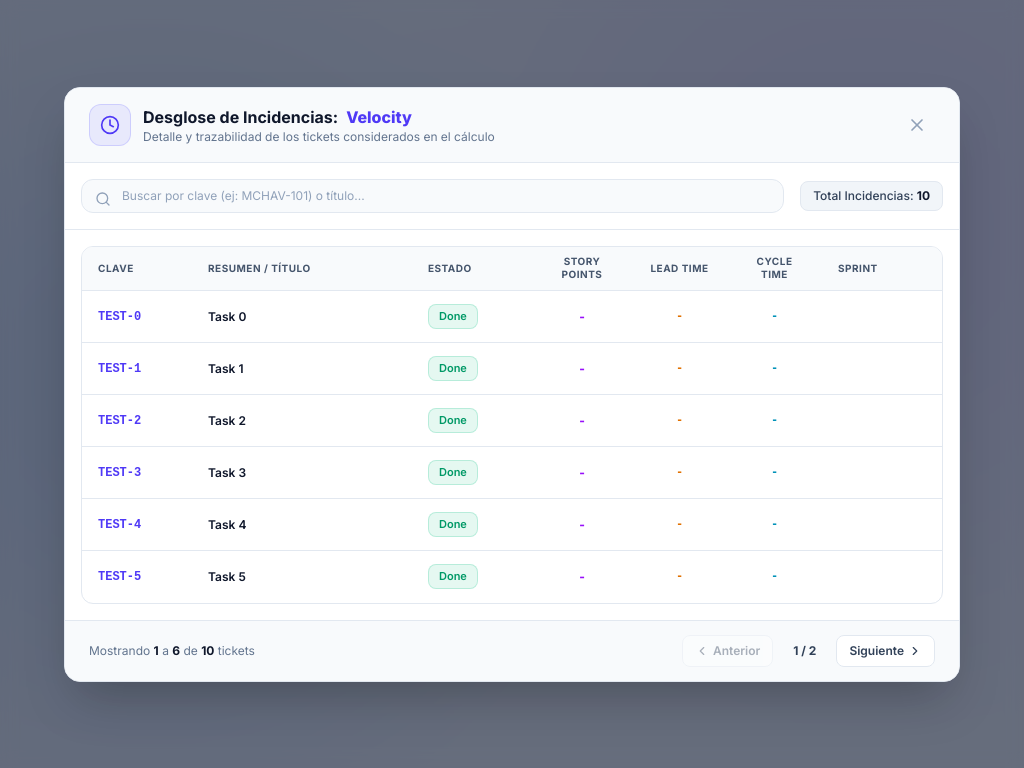
Test case: KpiDetailModal › handles pagination
Expected: the text "TEST-0" is shown, [82,290,192,342]
Expected: the text "TEST-6" is not shown
Click the button "Siguiente" at (886, 650), box [836,634,935,666]
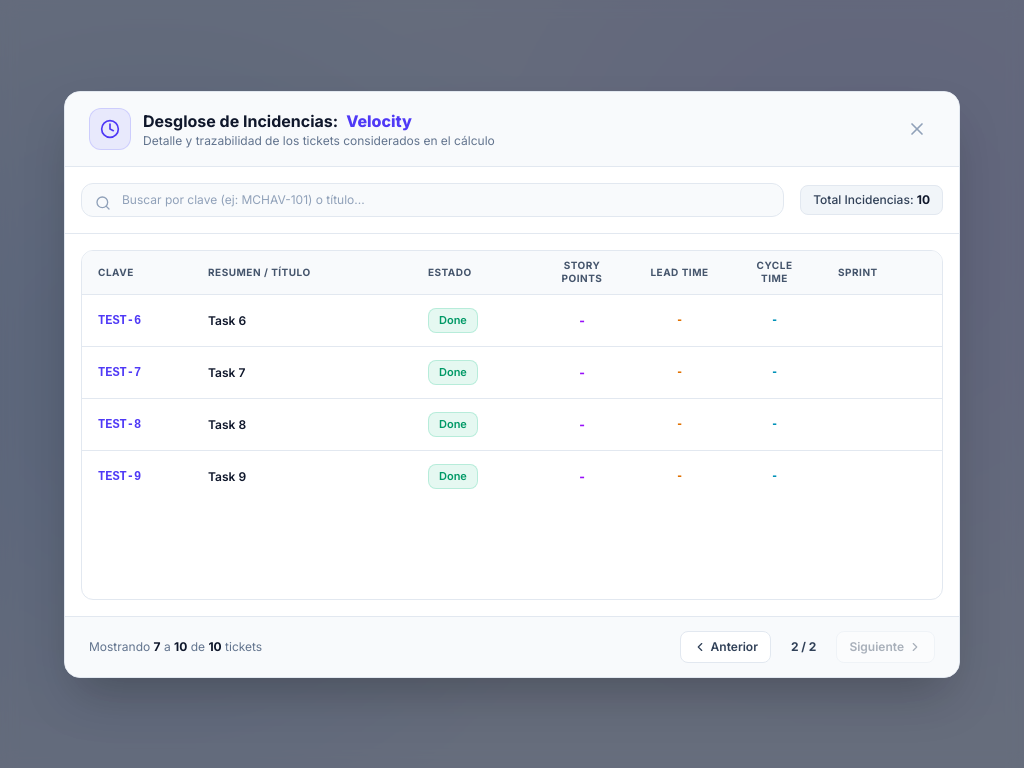
Result: the text "TEST-0" is gone
Result: the text "TEST-6" is shown at [82,294,192,346]
